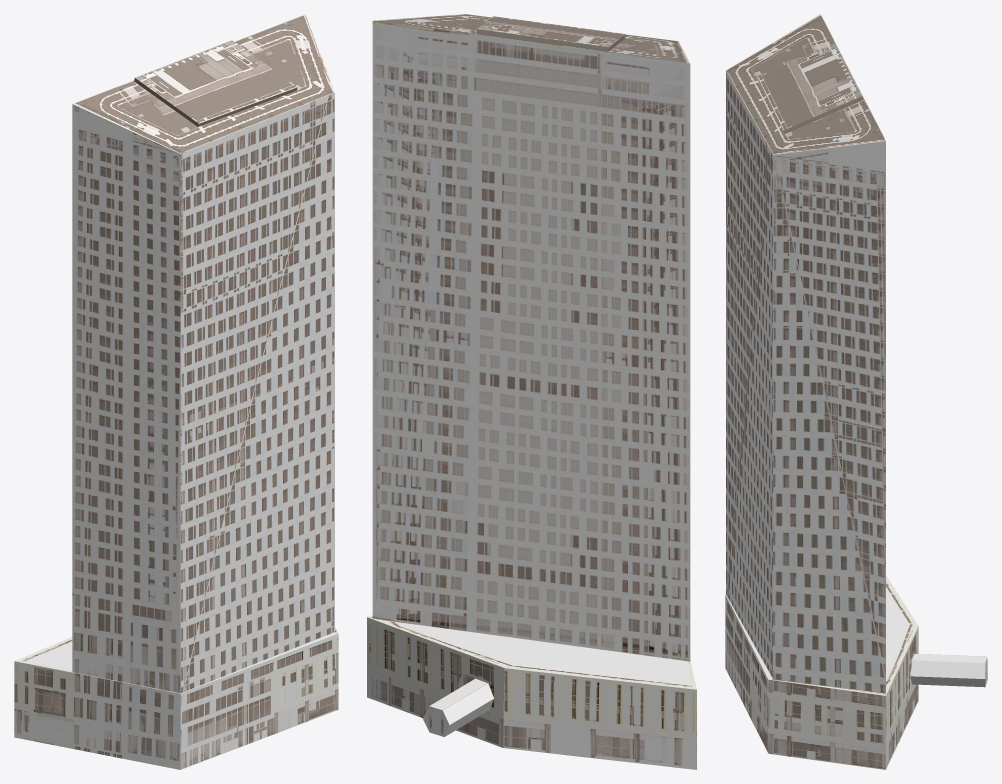
The picture shows the model from 3 angles, left to right: view 1: azimuth 30°, elevation 25°; view 2: azimuth 150°, elevation 25°; view 3: azimuth 270°, elevation 25°; orthographic projection. The views are drawn at different scales.
Visible parts, largest first — view 1: 6.001; view 2: 6.001; view 3: 6.001.
Boxes of the visible parts, x1,y1,x2,y2 form: 6.001: (14,14,338,769); 6.001: (367,14,696,769); 6.001: (725,14,987,769).
Size of the model in its own units: 69.14 by 140 by 52.88.
1 material, 1 textured.
